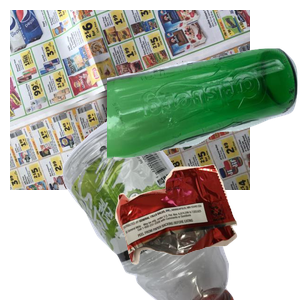glass: (107, 46, 300, 197)
paper: (10, 10, 250, 190)
plastic: (25, 120, 252, 300)
trash: (113, 162, 300, 300)
